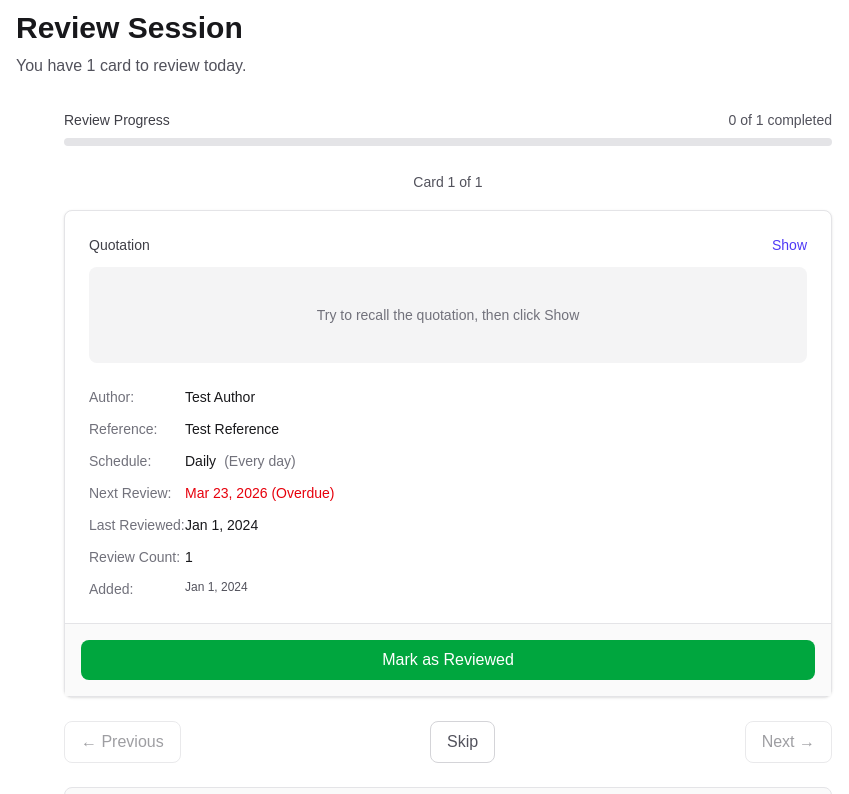
Test: Review Page › Session Complete State › should show completion screen after all cards are reviewed
This screenshot has width=849, height=794.
# Complete the review session by clicking "Skip" on the last card
Click the button "Skip" at x=463, y=742, box [430,721,495,763]
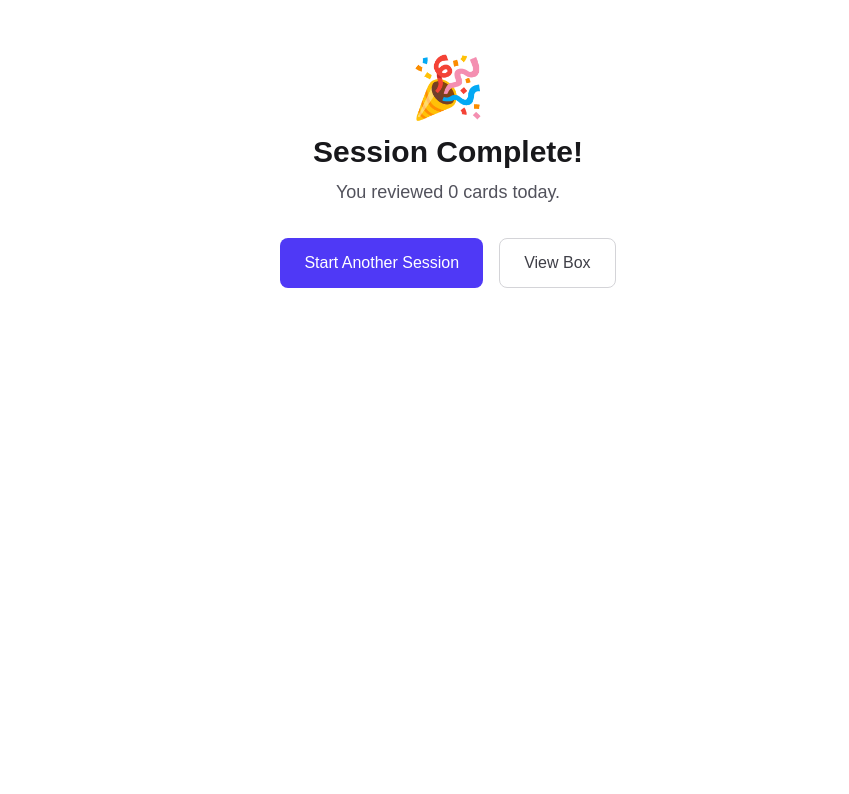
Result: the heading "Session Complete!" is shown at [313,135,583,168]
Result: the text "You reviewed 0 cards today." is shown at [336,182,560,202]
